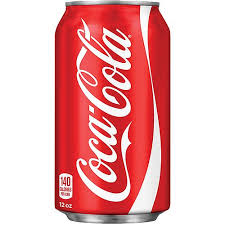coke: (72, 21, 136, 206)
